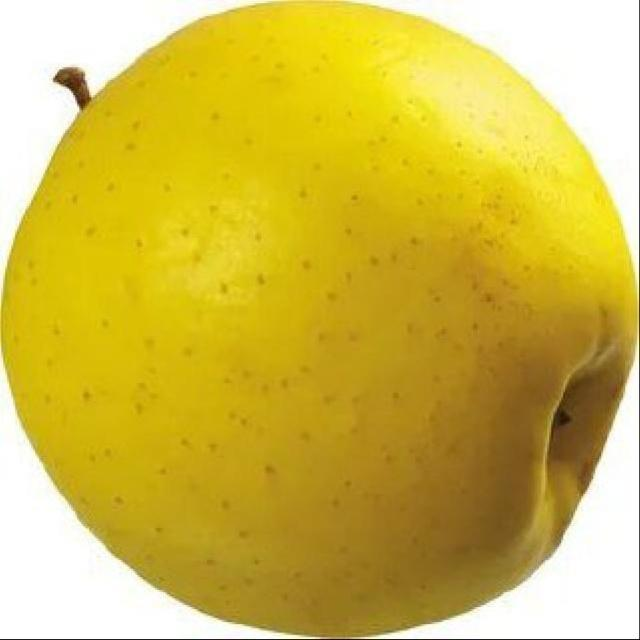green apple: (10, 3, 639, 639)
